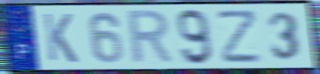3: (265, 10, 301, 62)
6: (86, 11, 124, 65)
9: (174, 8, 215, 66)
K: (41, 12, 80, 65)
R: (126, 8, 177, 67)
Z: (215, 8, 263, 65)
